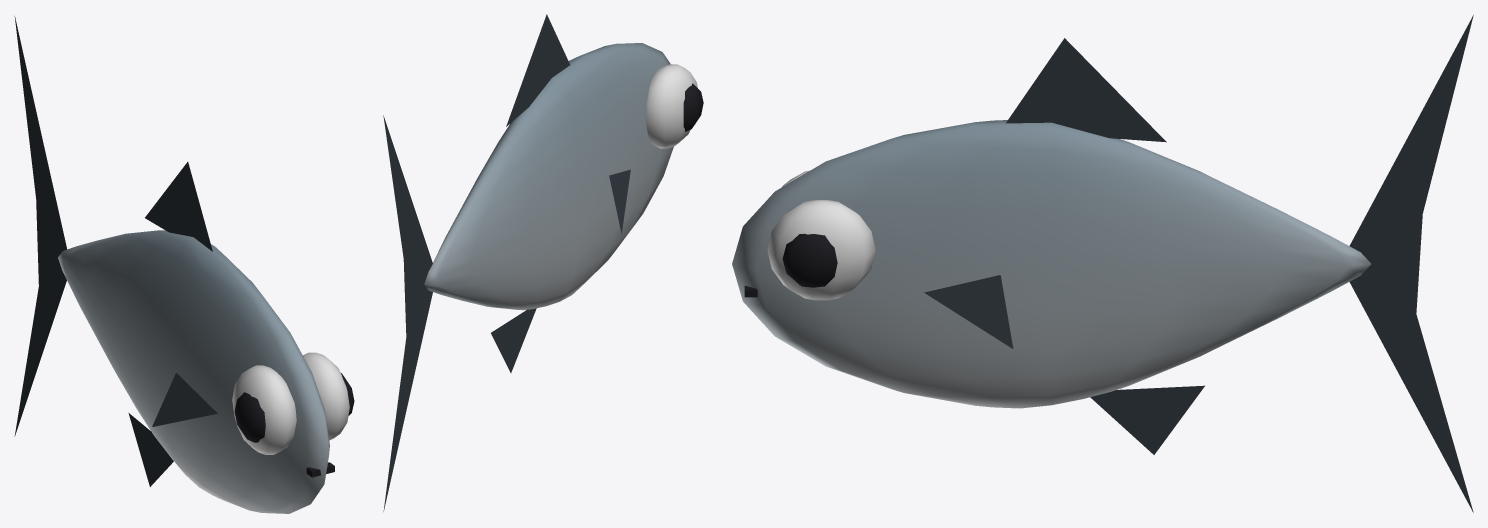
File: permit.glb
3 renders of one model, left to right at view 1: azimuth 30°, elevation 25°; view 2: azimuth 150°, elevation 25°; view 3: azimuth 270°, elevation 25°, orthographic. The views are drawn at different scales.
Visible parts, largest first — view 1: permit; view 2: permit; view 3: permit.
Part boxes in pixels (<box>): permit: <box>14,16,354,513</box>; permit: <box>383,14,703,511</box>; permit: <box>732,15,1473,512</box>.
Size of the model in its own units: 0.246 by 0.8625 by 1.16.
